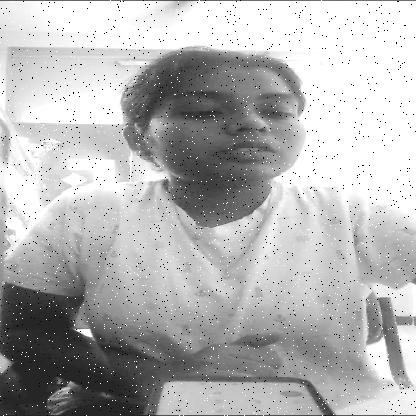Distracted: (146, 65, 310, 185)
